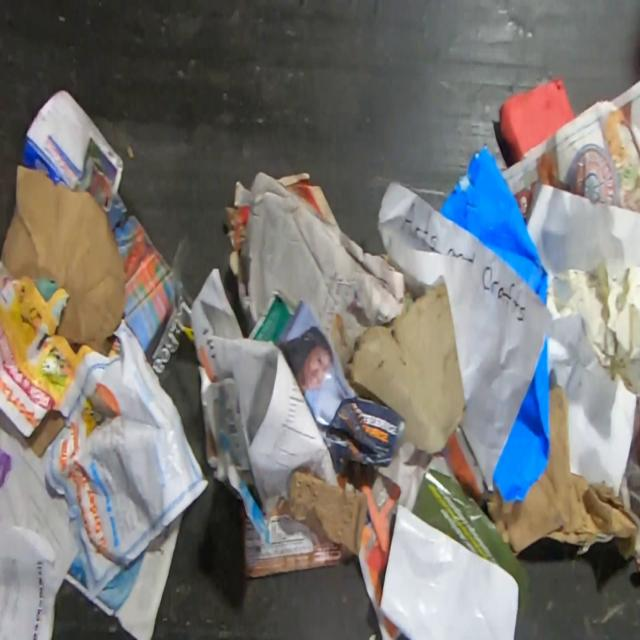cardboard: (485, 384, 638, 558), (0, 163, 128, 356), (345, 279, 466, 455), (287, 468, 368, 556), (23, 407, 65, 457)
